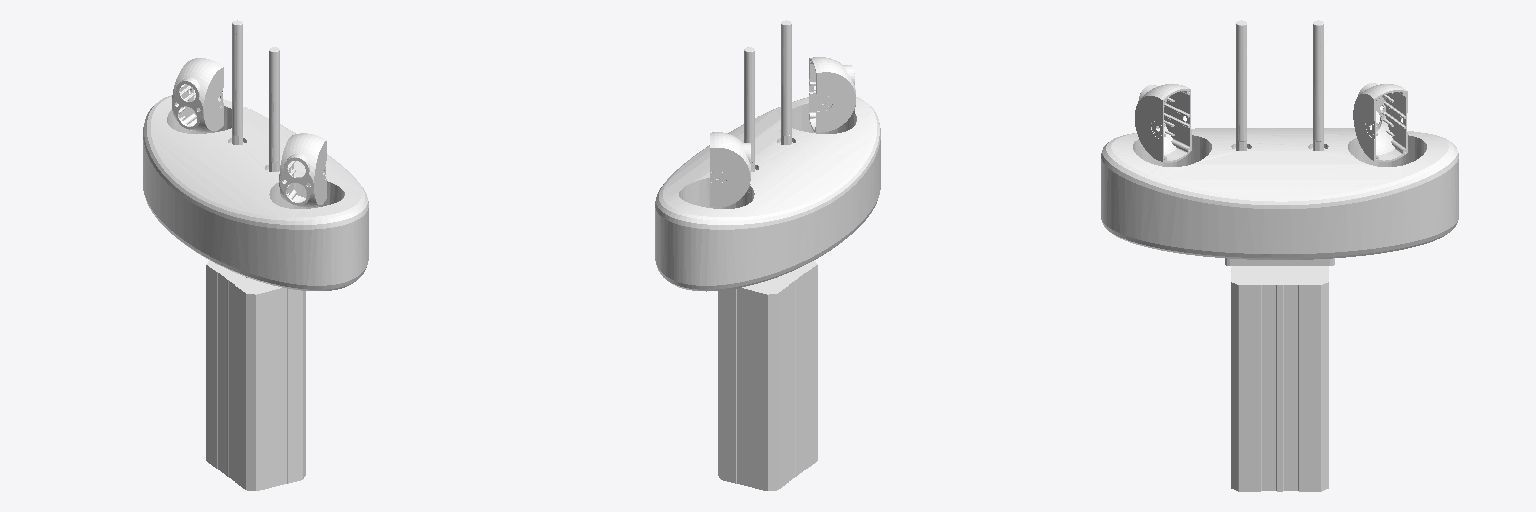
URDF robot description (yuntai):
<?xml version="1.0" encoding="utf-8"?>
<!-- This URDF was automatically created by SolidWorks to URDF Exporter! Originally created by [author] ([email redacted]) 
     Commit Version: 1.6.0-1-g15f4949  Build Version: 1.6.7594.29634
     For more information, please see http://wiki.ros.org/sw_urdf_exporter -->
<robot
  name="yuntai">
  <link
    name="base_yuntai">
    <inertial>
      <origin
        xyz="-0.00018418 -0.00057821 0.50604"
        rpy="0 0 0" />
      <mass
        value="304.47" />
      <inertia
        ixx="7.8505"
        ixy="0.00061788"
        ixz="8.9504E-05"
        iyy="3.9028"
        iyz="0.00015743"
        izz="7.5697" />
    </inertial>
    <visual>
      <origin
        xyz="0 0 0"
        rpy="0 0 0" />
      <geometry>
        <mesh
          filename="package://yuntai/meshes/base_yuntai.STL" />
      </geometry>
      <material
        name="">
        <color
          rgba="1 1 1 1" />
      </material>
    </visual>
    <collision>
      <origin
        xyz="0 0 0"
        rpy="0 0 0" />
      <geometry>
        <mesh
          filename="package://yuntai/meshes/base_yuntai.STL" />
      </geometry>
    </collision>
  </link>
</robot>

--- Facts derived from the render (not from the file) ---
The picture shows the robot from 3 angles, left to right: view 1: azimuth 30°, elevation 25°; view 2: azimuth 150°, elevation 25°; view 3: azimuth 270°, elevation 25°; orthographic projection.
Model yuntai with 1 links and 0 joints (none), rooted at base_yuntai, posed all joints at 0.
Visible links, largest first — view 1: base_yuntai; view 2: base_yuntai; view 3: base_yuntai.
Link boxes in pixels (left/top/right/bottom): base_yuntai: left=143, top=20, right=368, bottom=490; base_yuntai: left=655, top=20, right=880, bottom=490; base_yuntai: left=1101, top=20, right=1458, bottom=491.
Bounding box of the posed robot: 0.35 × 0.7 × 0.9775 m (x, y, z).
Meshes: 1 distinct files referenced, 1 mesh visuals loaded (1 binary STL).